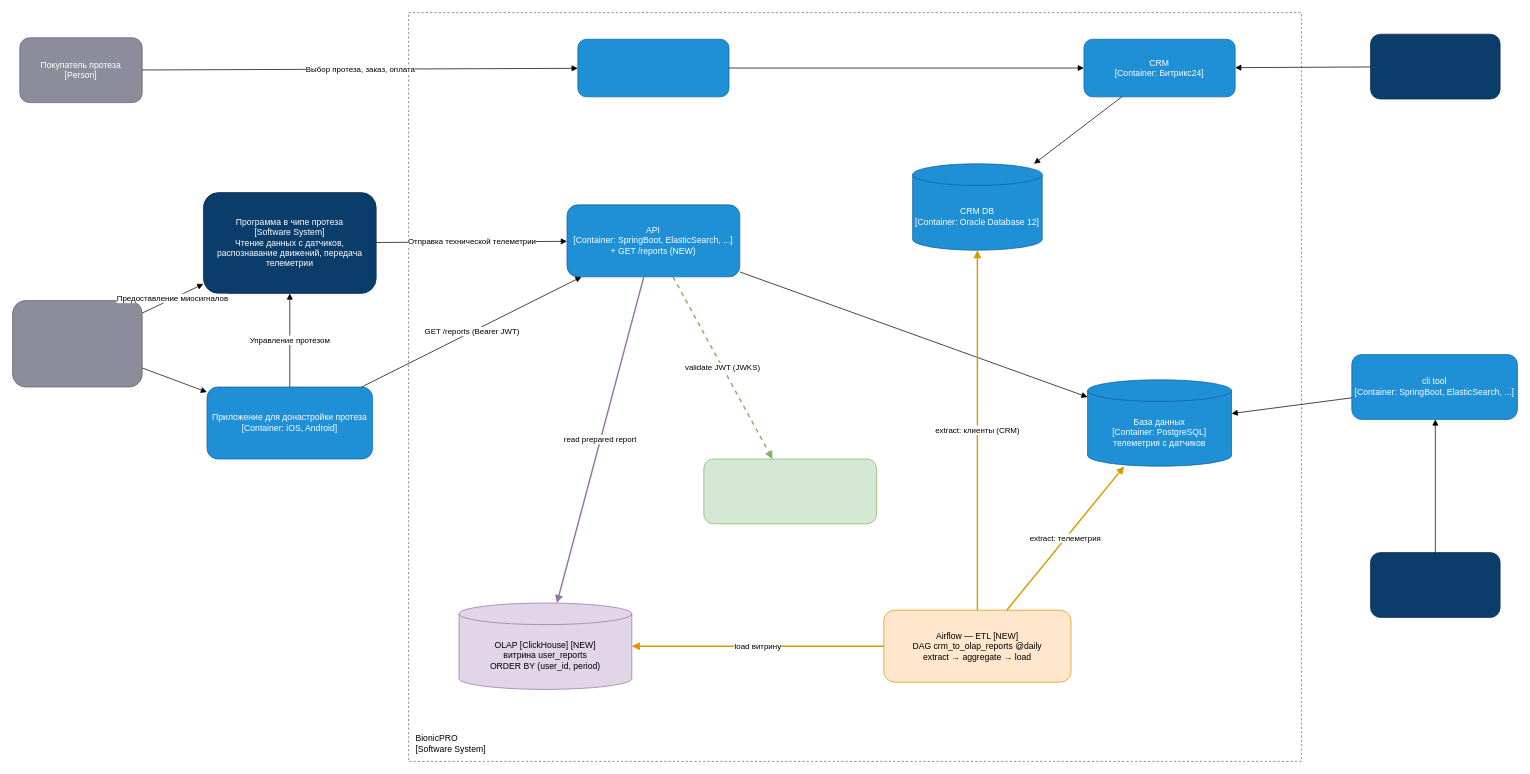
The diagram is 1530 pixels wide and 774 high, and some of its shapes have lost their labels. The shapes that lost their labels are listed below. From the top down, each one's centre as x and y in pixels, then its label:
At (653,68): "Интернет-магазин [Container: Битрикс24]".
At (1435,66): "Оператор производства [Person]".
At (77,343): "Пилот протеза [Person] запрашивает свой отчёт".
At (790,491): "Keycloak [IdP] validate JWT (JWKS), роль prothetic_user".
At (1435,584): "ML-инженер [Person]".
